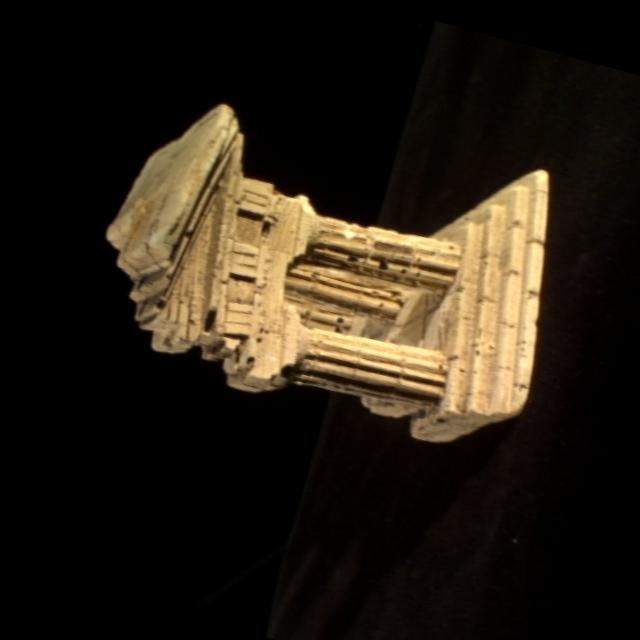Instance-Segmentation: (107, 103, 548, 440)
